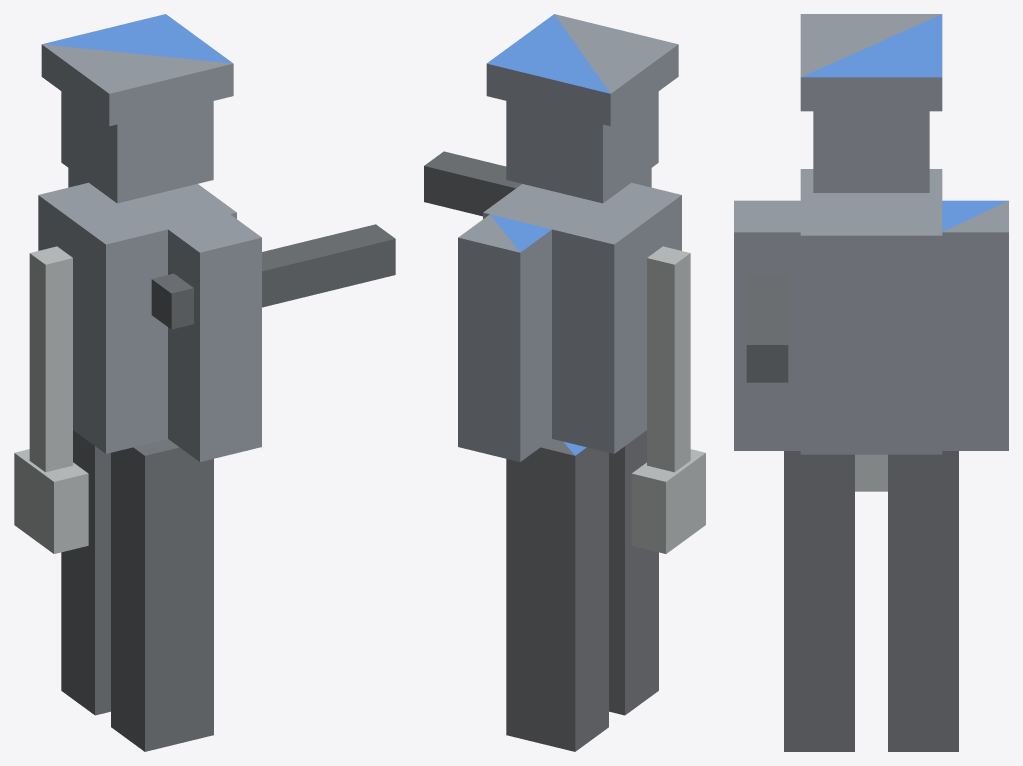
Rendered from veyran_combat_engineer.glb.
3 views of the same model, side by side, from view 1: azimuth 30°, elevation 25°; view 2: azimuth 150°, elevation 25°; view 3: azimuth 270°, elevation 25° (orthographic). The views are drawn at different scales.
Visible parts, largest first — view 1: torso, leg_r, arm_r, head, leg_l; view 2: torso, leg_l, head, arm_l, leg_r, arm_r; view 3: torso, head, leg_l, leg_r, arm_l, arm_r.
Part boxes in pixels (<box>): torso: <box>14,182,236,553</box>; leg_r: <box>111,439,213,751</box>; arm_r: <box>151,214,395,461</box>; head: <box>41,14,233,203</box>; leg_l: <box>61,430,110,715</box>; torso: <box>483,182,705,553</box>; leg_l: <box>506,439,608,751</box>; head: <box>486,14,678,203</box>; arm_l: <box>458,214,551,461</box>; leg_r: <box>609,430,658,715</box>; arm_r: <box>424,151,651,216</box>; torso: <box>800,169,942,491</box>; head: <box>800,14,942,192</box>; leg_l: <box>888,451,958,751</box>; leg_r: <box>784,451,854,751</box>; arm_l: <box>942,200,1008,450</box>; arm_r: <box>734,200,800,450</box>.
Bounding box in the file's own units: 0.875 × 1.82 × 0.66.
